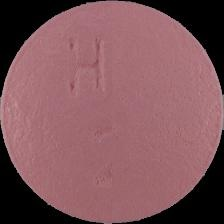62584-733: (0, 0, 224, 224)
